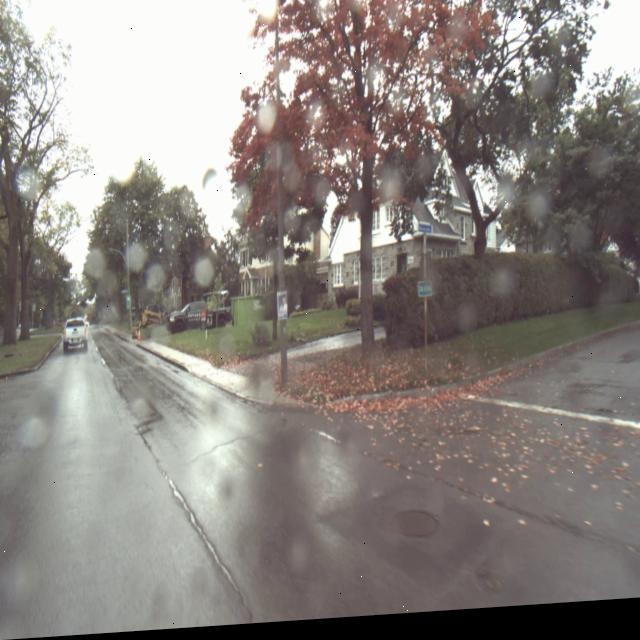car: (168, 302, 204, 337), (62, 318, 89, 356)
